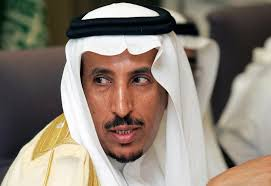middle_eastern_male: (80, 33, 169, 154)
